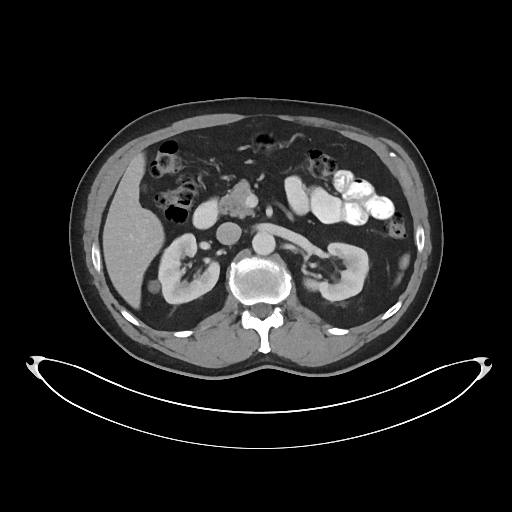Lesion: (143, 273, 168, 295)
